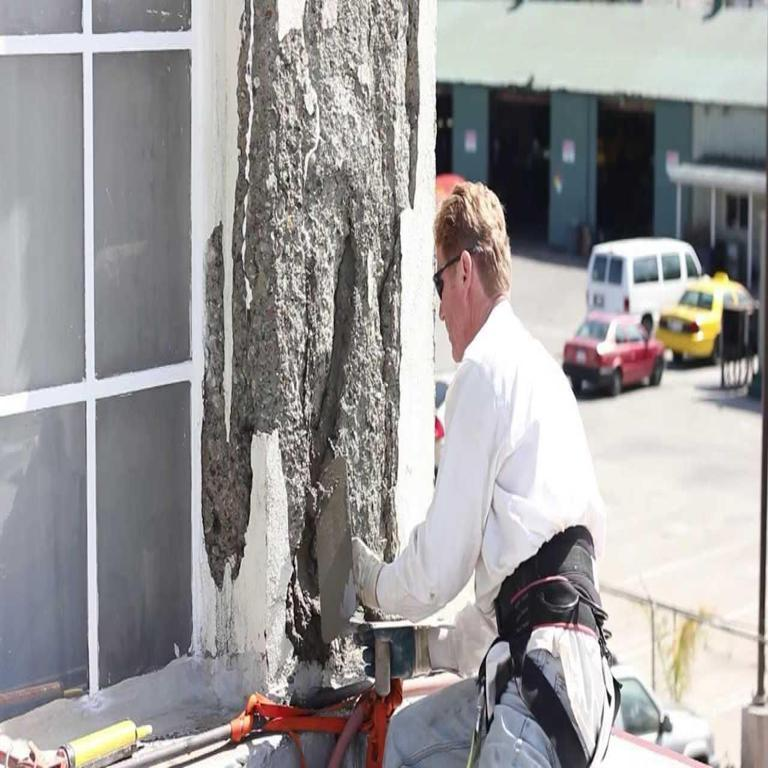damage: (202, 0, 417, 666)
